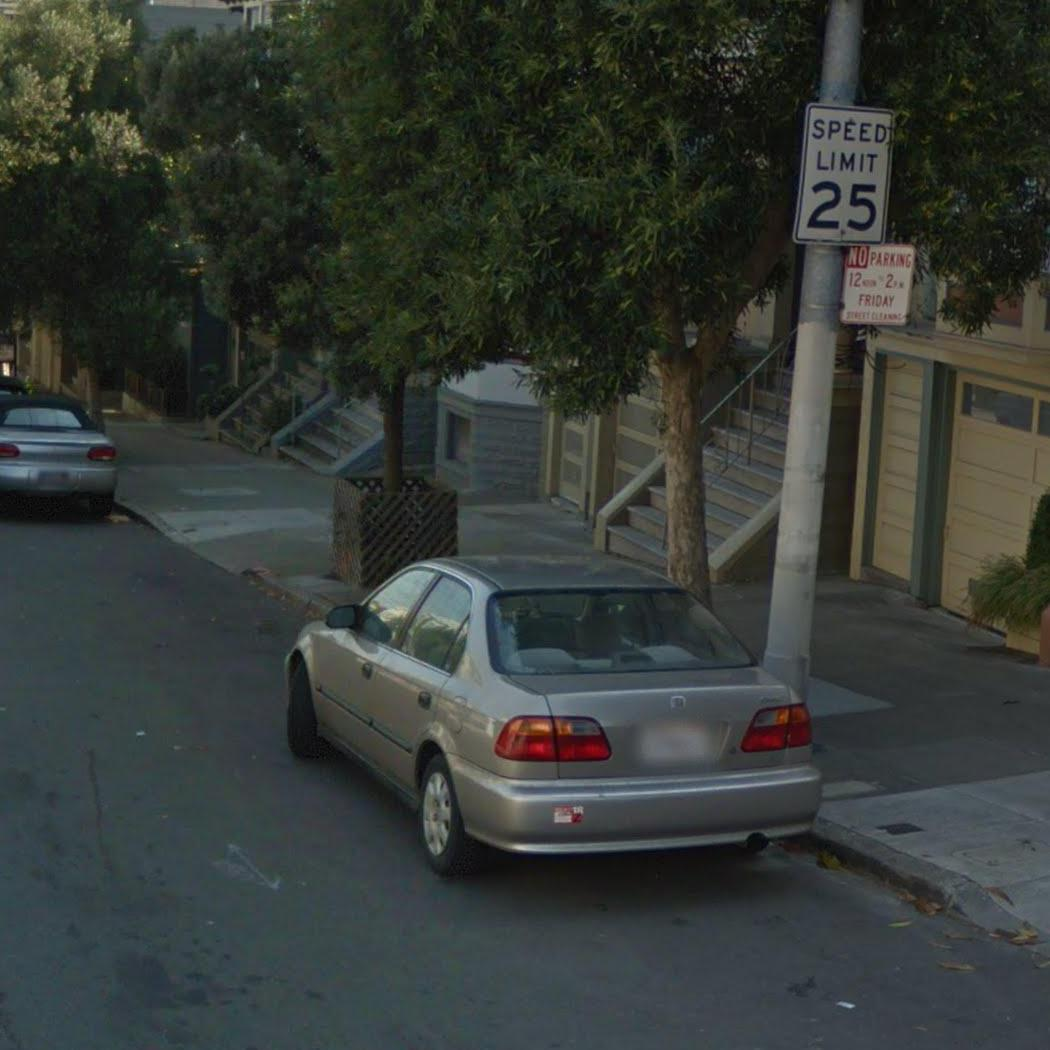No Parking: (835, 236, 918, 329)
